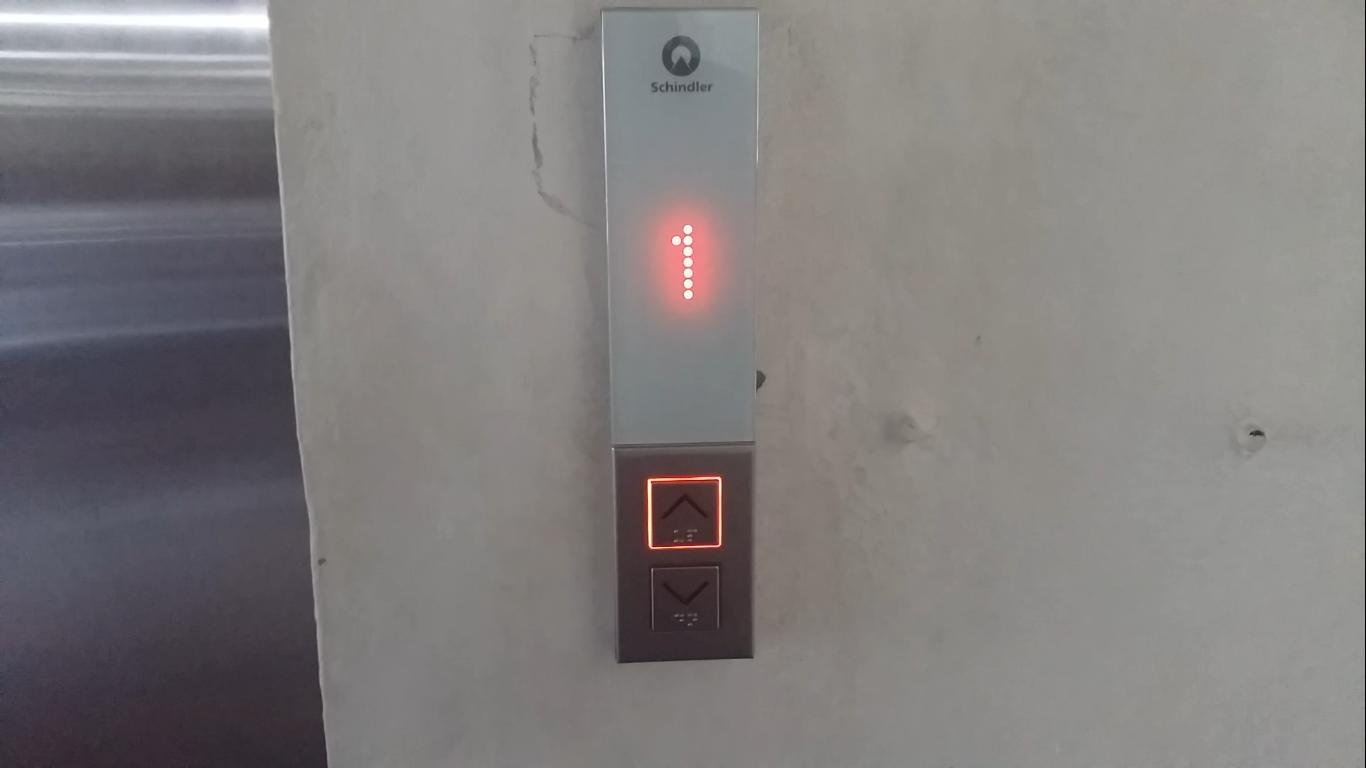down: (646, 561, 725, 639)
led: (596, 6, 762, 449)
up: (644, 472, 724, 553)
